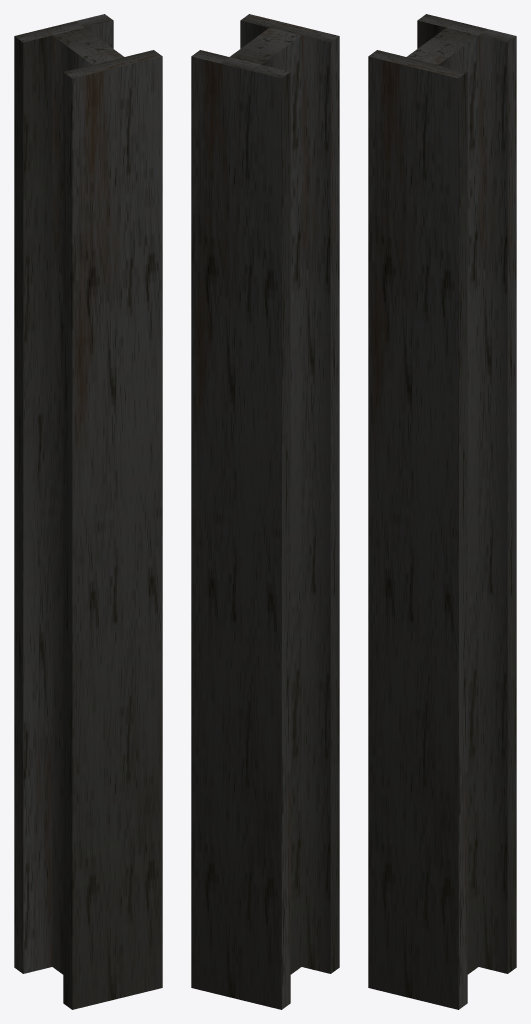
File: H Beam.fbx
The picture shows the model from 3 angles, left to right: view 1: azimuth 30°, elevation 25°; view 2: azimuth 150°, elevation 25°; view 3: azimuth 330°, elevation 25°; orthographic projection.
Visible parts, largest first — view 1: H Beam; view 2: H Beam; view 3: H Beam.
Part boxes in pixels (left/top/right/bottom): H Beam: left=14, top=14, right=162, bottom=1009; H Beam: left=191, top=14, right=339, bottom=1009; H Beam: left=368, top=14, right=516, bottom=1009.
Bounding box in the file's own units: 80.23 × 790 × 89.15.
